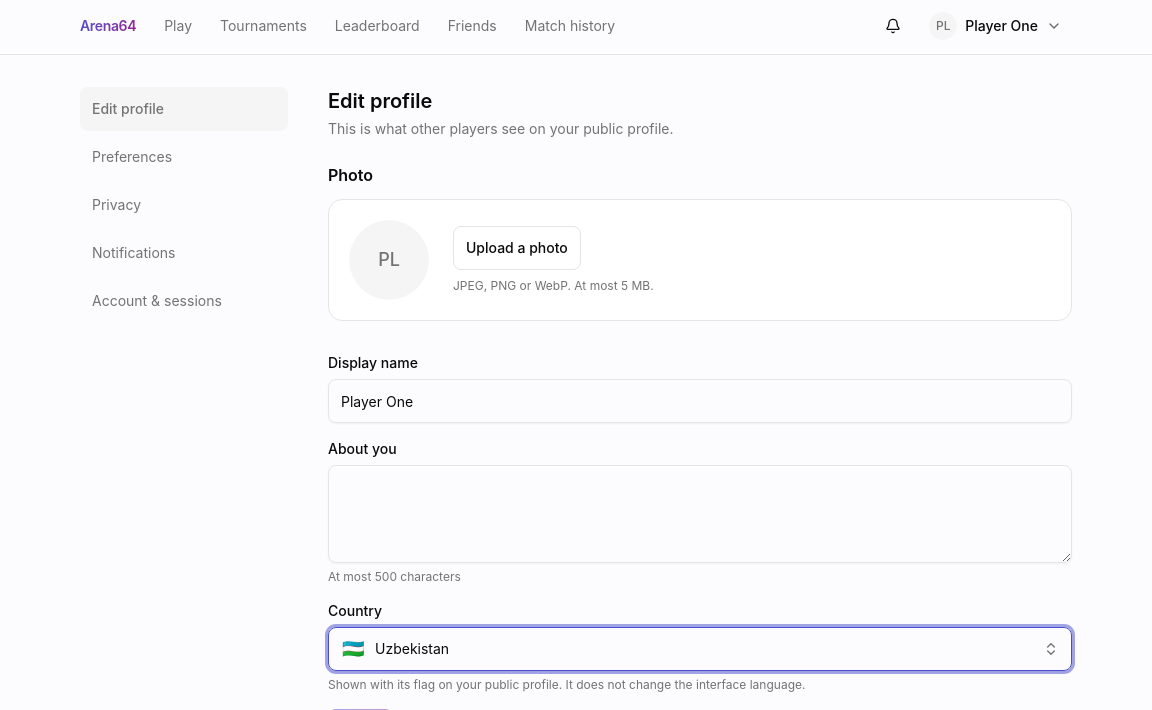
Test: choosing a country › searches, chooses with the keyboard alone, and saves the code
Expected: the button named "country uzbekistan" shows "🇺🇿", [328, 627, 1072, 671]
Press Enter
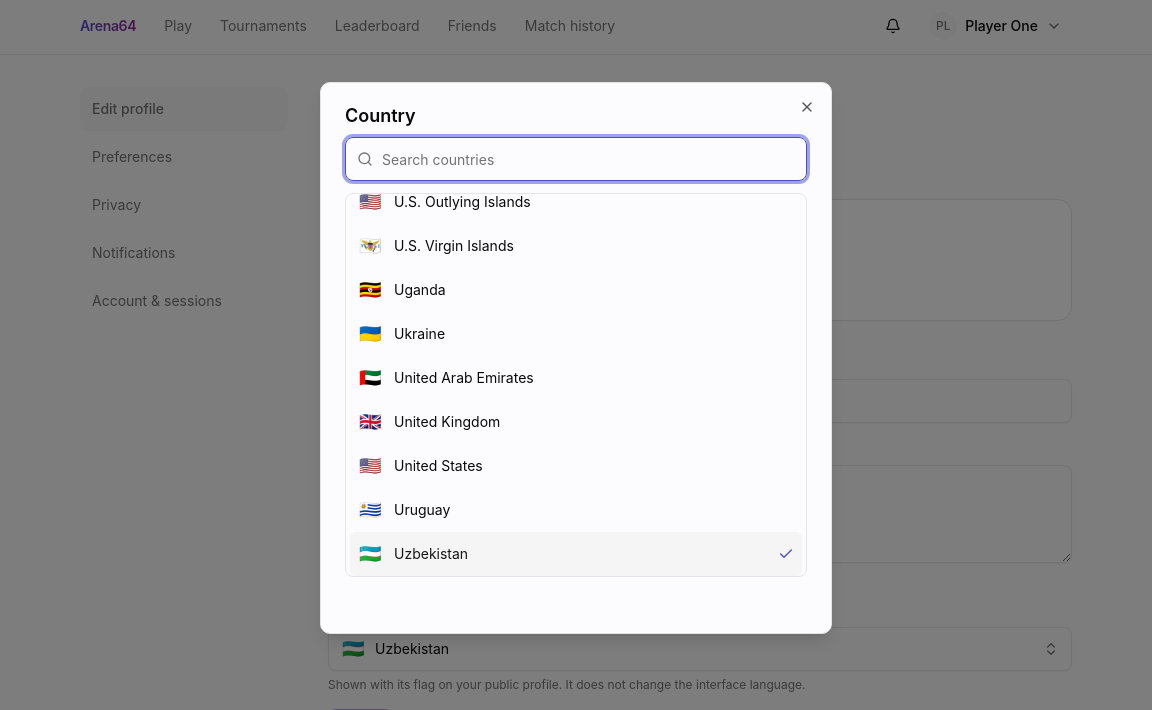
Type keys "united"
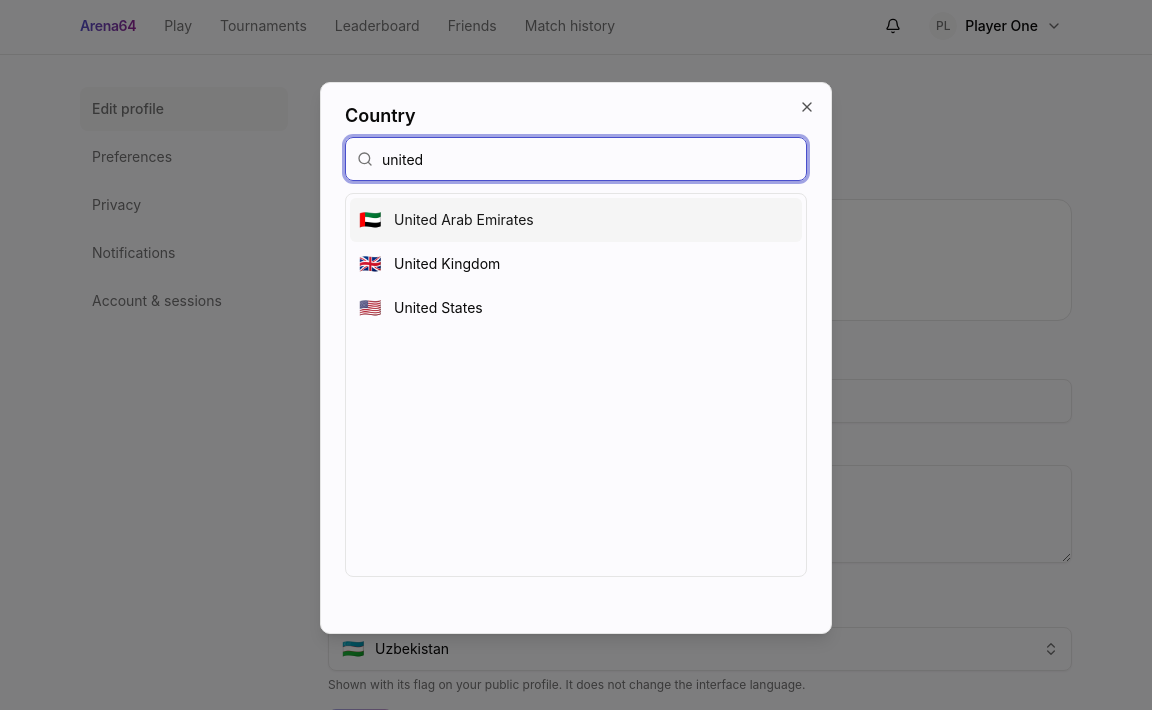
Result: the options read "🇦🇪United Arab Emirates", "🇬🇧United Kingdom", "🇺🇸United States", in this order at [350, 198, 802, 242]; [359, 253, 500, 274]; [359, 297, 483, 318]
Press Arrowdown
Press Enter
(page scrolled)
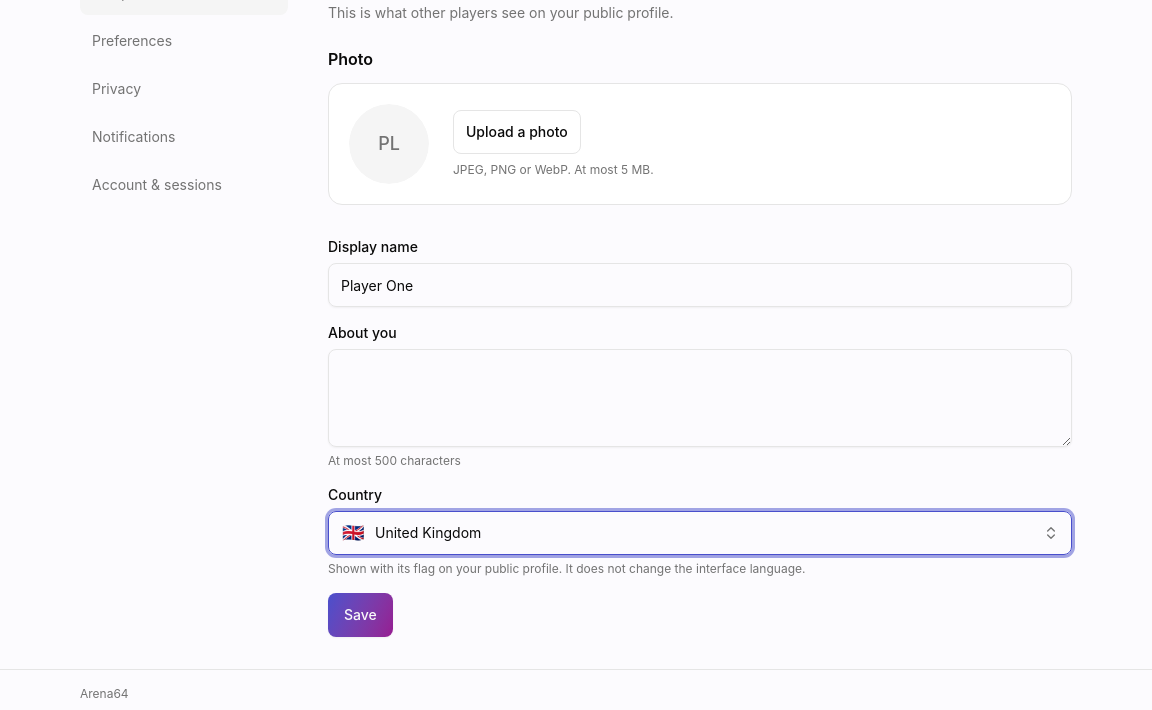
Result: the dialog is gone
Click the button "Save" at point(360, 615), box [328, 593, 393, 637]
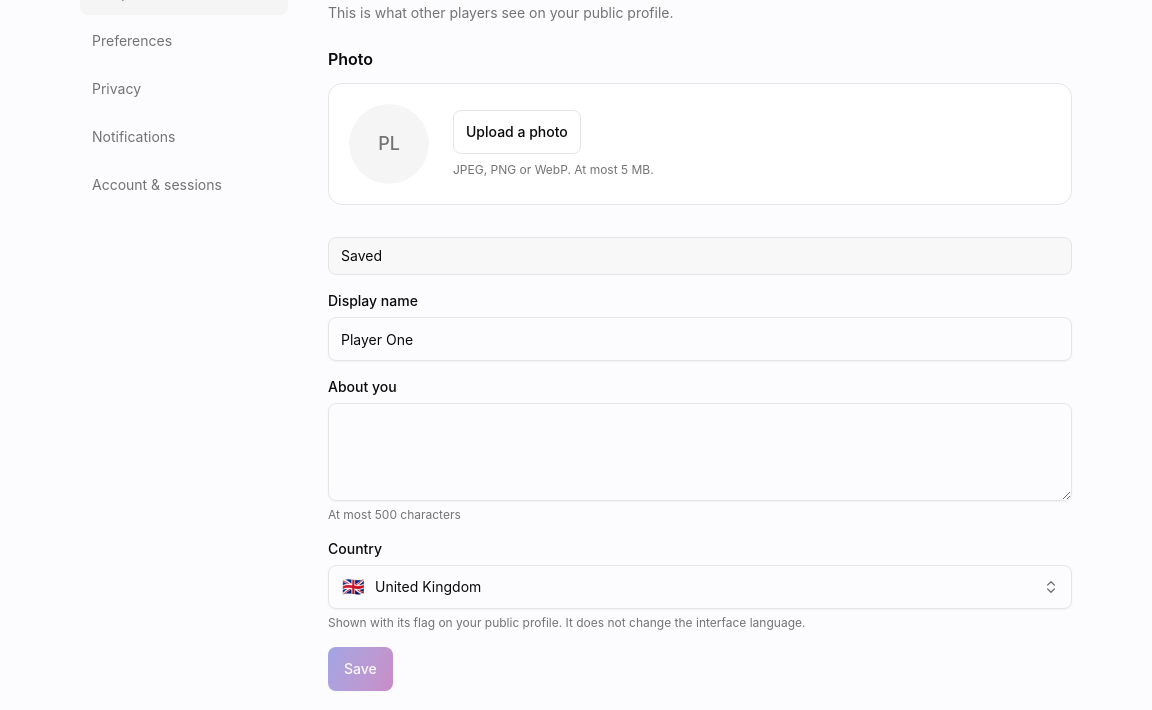
Result: the message reads "Saved" at [341, 247, 382, 264]
Result: the button "Save" is disabled at [328, 647, 393, 691]
